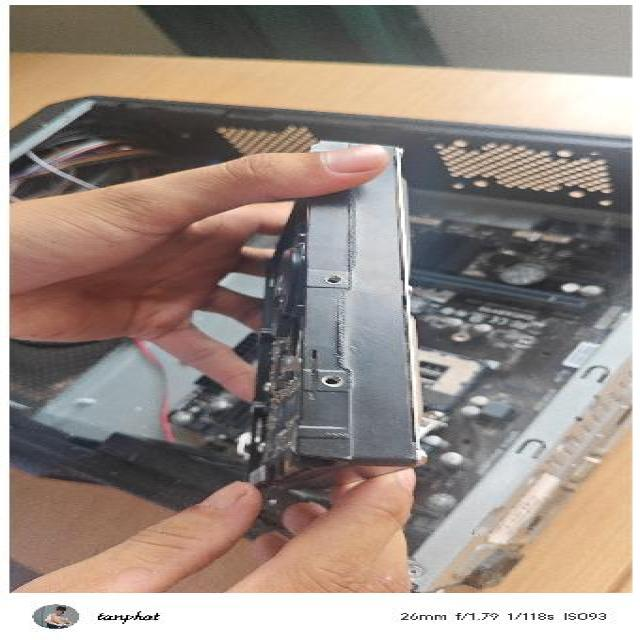DISK: (228, 140, 440, 500)
